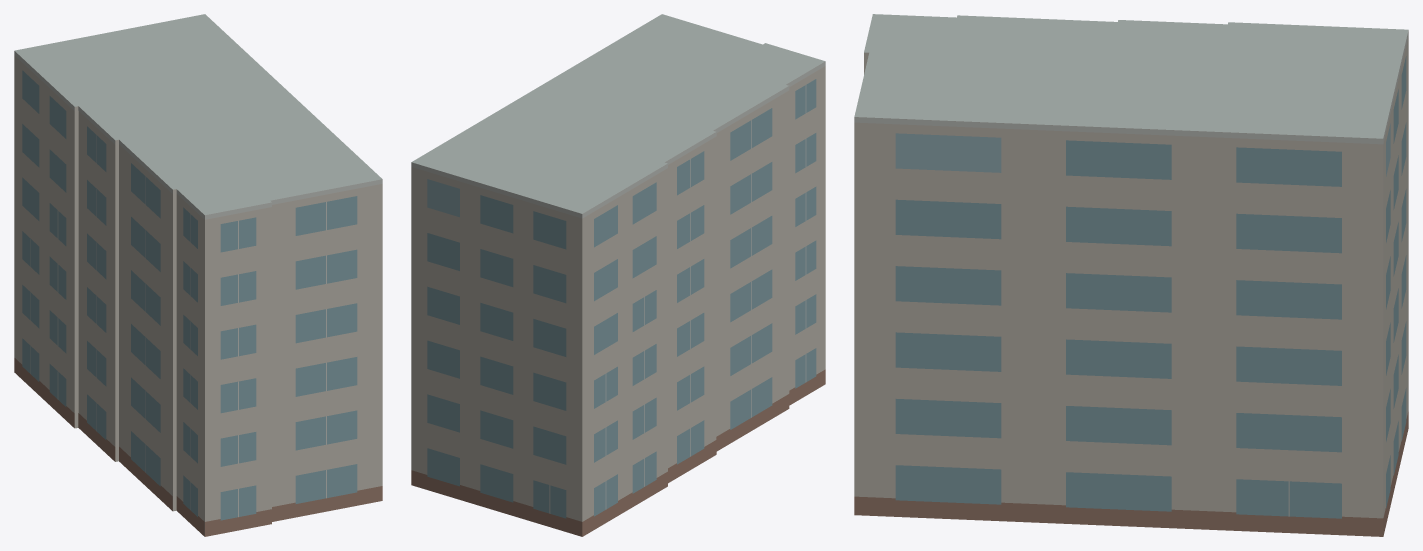
Rendered from survey-upis-32759153.glb.
3 renders of one model, left to right at view 1: azimuth 30°, elevation 25°; view 2: azimuth 150°, elevation 25°; view 3: azimuth 270°, elevation 25°, orthographic. The views are drawn at different scales.
Parts seen in each view (by area): view 1: survey-upis-32759153.tmp; view 2: survey-upis-32759153.tmp; view 3: survey-upis-32759153.tmp.
Part boxes in pixels (left/top/right/bottom): survey-upis-32759153.tmp: left=14, top=14, right=382, bottom=536; survey-upis-32759153.tmp: left=411, top=14, right=825, bottom=536; survey-upis-32759153.tmp: left=854, top=14, right=1408, bottom=536.
Size of the model in its own units: 11.57 by 17.2 by 21.71.
